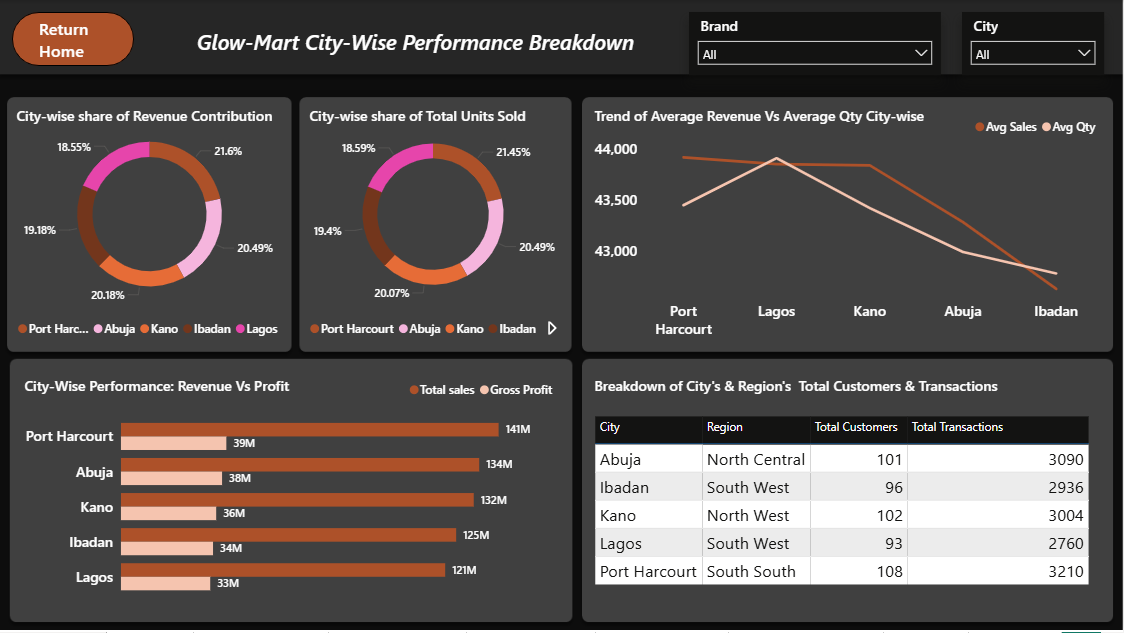

This screenshot's page, from the dashboard's own definition file:
{"tool":"powerbi","page":{"name":"🌏  City Analysis","canvas":[1280,720],"ordinal":3},"visuals":[{"type":"tableEx","fields":{"Values":["Customers.City","Customers.Region","all measures.Total Customers","all measures.Total Transactions"]},"box":[673.3,469.4,585.6,235.8],"z":0},{"type":"donutChart","fields":{"Category":["Customers.City"],"Y":["all measures.city share pct"]},"box":[14.8,124.2,313.3,268.9],"z":1000},{"type":"donutChart","fields":{"Category":["Customers.City"],"Y":["all measures.Total Units Sold"]},"box":[348.6,124.2,291.6,268.9],"z":2000},{"type":"clusteredBarChart","fields":{"Category":["Customers.City"],"Y":["all measures.Total sales","all measures.Gross Profit"]},"box":[23.9,423.8,616.3,271.1],"z":3000},{"type":"lineChart","fields":{"Category":["Customers.City"],"Y":["all measures.Avg Sales"],"Y2":["all measures.Avg Qty"]},"box":[673.3,124.2,585.6,268.9],"z":4000},{"type":"slicer","fields":{"Values":["Customers.City"]},"box":[1097.1,13.7,161.8,71.8],"z":5000},{"type":"slicer","fields":{"Values":["Products.Brand"]},"box":[786.1,13.7,287.1,71.8],"z":6000},{"type":"textbox","box":[673.3,116.2,423.8,34.2],"z":7000},{"type":"textbox","box":[673.3,423.8,585.6,45.6],"z":8000},{"type":"textbox","box":[23.9,423.8,439.7,45.6],"z":9000},{"type":"textbox","box":[348.6,116.2,300.8,44.4],"z":10000},{"type":"textbox","box":[14.8,116.2,313.3,44.4],"z":11000},{"type":"textbox","box":[162.9,26.2,623.2,49],"z":12000},{"type":"shape","box":[14.8,13.7,139,61.5],"z":13000},{"type":"actionButton","title":"Return   Home","box":[45.6,19.4,108.2,49],"z":14000}]}

Visuals, with their boxes in screenshot pixels (x1, y1, x2, y2), scaled from the page's 1280x720 canvas onto the 1124x633 screenshot:
tableEx - Customers.City x Customers.Region: 591/413/1105/620
donutChart - Customers.City x all measures.city share pct: 13/109/288/346
donutChart - Customers.City x all measures.Total Units Sold: 306/109/562/346
clusteredBarChart - Customers.City x all measures.Total sales: 21/373/562/611
lineChart - Customers.City x all measures.Avg Sales: 591/109/1105/346
slicer - Customers.City: 963/12/1105/75
slicer - Products.Brand: 690/12/942/75
textbox: 591/102/963/132
textbox: 591/373/1105/413
textbox: 21/373/407/413
textbox: 306/102/570/141
textbox: 13/102/288/141
textbox: 143/23/690/66
shape: 13/12/135/66
"Return   Home" actionButton: 40/17/135/60
